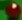brown: (0, 0, 22, 20)
